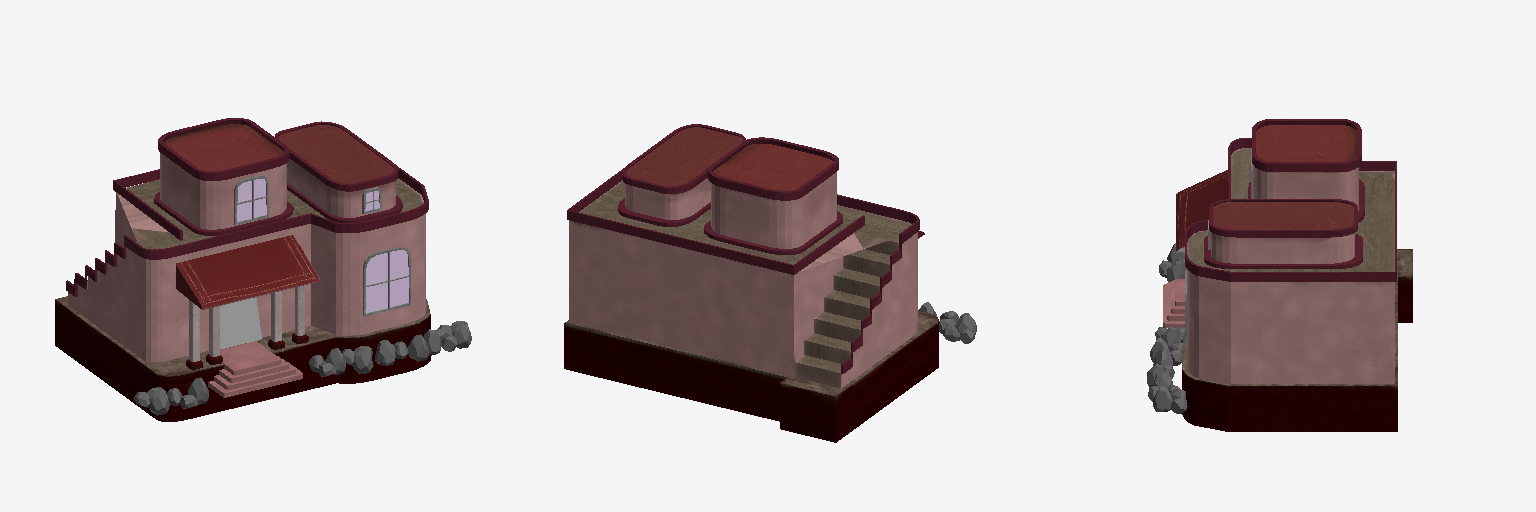
3 renders of one model, left to right at view 1: azimuth 30°, elevation 25°; view 2: azimuth 150°, elevation 25°; view 3: azimuth 270°, elevation 25°, orthographic.
Parts seen in each view (by area): view 1: Cube.456, Cube.410, Cube.430, Cube.415, Cube.438, Cube.423, Cube.421, Cube.427, Plane.001, Cube.446, Cube.426, Cube.433 (+7 smaller); view 2: Cube.456, Cube.410, Cube.430, Cube.438, Cube.423, Cube.427, Cube.426, Cube.433, Cube.429; view 3: Cube.456, Cube.410, Cube.438, Cube.430, Cube.423, Cube.427, Cube.415, Cube.426, Cube.429, Cube.421.
Part boxes in pixels (bbox=[...]): Cube.456: bbox=[68, 178, 425, 361]; Cube.410: bbox=[55, 296, 430, 421]; Cube.430: bbox=[160, 124, 286, 229]; Cube.415: bbox=[176, 235, 319, 309]; Cube.438: bbox=[279, 125, 395, 217]; Cube.423: bbox=[66, 166, 428, 296]; Cube.421: bbox=[208, 341, 302, 397]; Cube.427: bbox=[158, 118, 289, 180]; Plane.001: bbox=[366, 250, 408, 312]; Cube.446: bbox=[220, 298, 260, 349]; Cube.426: bbox=[275, 121, 397, 191]; Cube.433: bbox=[154, 192, 293, 235]; Cube.456: bbox=[569, 180, 917, 388]; Cube.410: bbox=[564, 310, 938, 442]; Cube.430: bbox=[711, 144, 836, 248]; Cube.438: bbox=[625, 127, 741, 219]; Cube.423: bbox=[567, 168, 919, 373]; Cube.427: bbox=[707, 137, 838, 200]; Cube.426: bbox=[622, 124, 745, 193]; Cube.433: bbox=[704, 211, 842, 254]; Cube.429: bbox=[618, 198, 710, 226]; Cube.456: bbox=[1187, 148, 1394, 383]; Cube.410: bbox=[1182, 249, 1412, 431]; Cube.438: bbox=[1211, 202, 1354, 263]; Cube.430: bbox=[1253, 125, 1358, 210]; Cube.423: bbox=[1185, 138, 1396, 281]; Cube.427: bbox=[1252, 119, 1361, 171]; Cube.415: bbox=[1176, 170, 1228, 252]; Cube.426: bbox=[1209, 199, 1357, 237]; Cube.429: bbox=[1204, 234, 1362, 268]; Cube.421: bbox=[1163, 279, 1184, 327].
Bounding box in the file's own units: 2.34 × 1.45 × 1.66.
Materials: 17 (14 with a texture image).